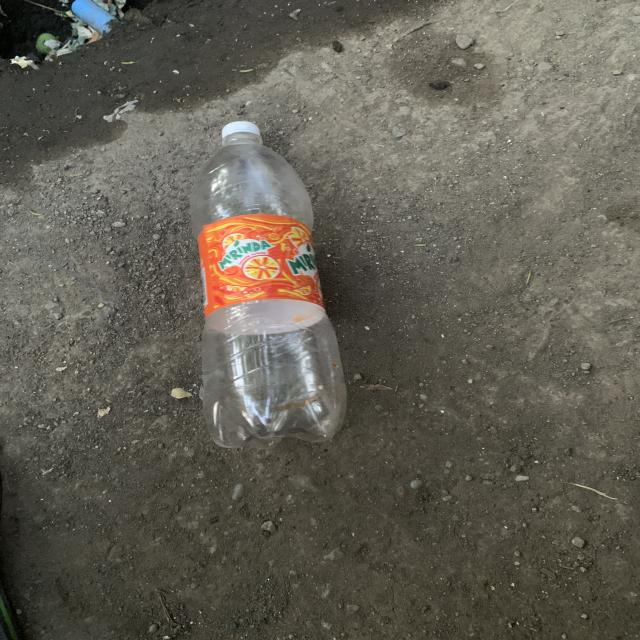Bottle: (191, 122, 346, 448)
